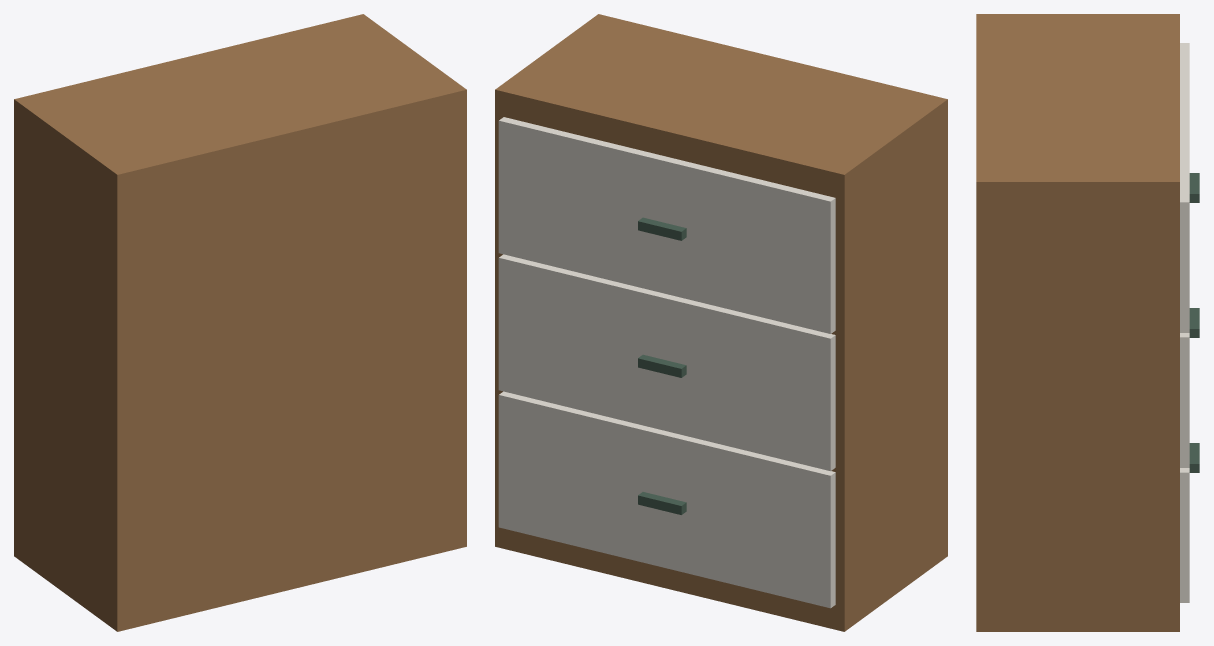
The picture shows the model from 3 angles, left to right: view 1: azimuth 30°, elevation 25°; view 2: azimuth 150°, elevation 25°; view 3: azimuth 270°, elevation 25°; orthographic projection.
Parts seen in each view (by area): view 1: body; view 2: body, drawer-2, drawer-1, drawer-0, pull-2, pull-1, pull-0; view 3: body, drawer-2, drawer-0, drawer-1, pull-0, pull-1, pull-2.
Boxes of the visible parts, x1=… form: body: x1=14, y1=14, x2=466, y2=631; body: x1=495, y1=14, x2=947, y2=631; drawer-2: x1=498, y1=117, x2=835, y2=333; drawer-1: x1=498, y1=254, x2=835, y2=471; drawer-0: x1=498, y1=391, x2=835, y2=608; pull-2: x1=638, y1=217, x2=686, y2=240; pull-1: x1=638, y1=354, x2=686, y2=377; pull-0: x1=638, y1=492, x2=686, y2=514; body: x1=976, y1=14, x2=1179, y2=631; drawer-2: x1=1180, y1=43, x2=1189, y2=332; drawer-0: x1=1180, y1=468, x2=1189, y2=602; drawer-1: x1=1180, y1=333, x2=1189, y2=467; pull-0: x1=1189, y1=443, x2=1199, y2=472; pull-1: x1=1189, y1=308, x2=1199, y2=337; pull-2: x1=1189, y1=173, x2=1199, y2=202.
Bounding box in the file's own units: 0.8 × 1 × 0.45.
